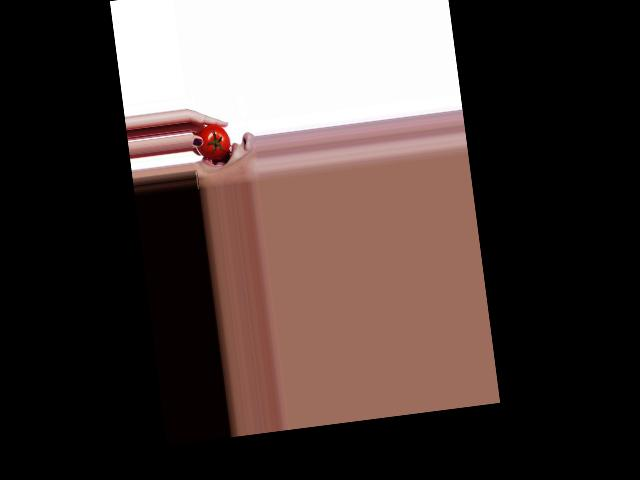tomato: (193, 122, 231, 161)
